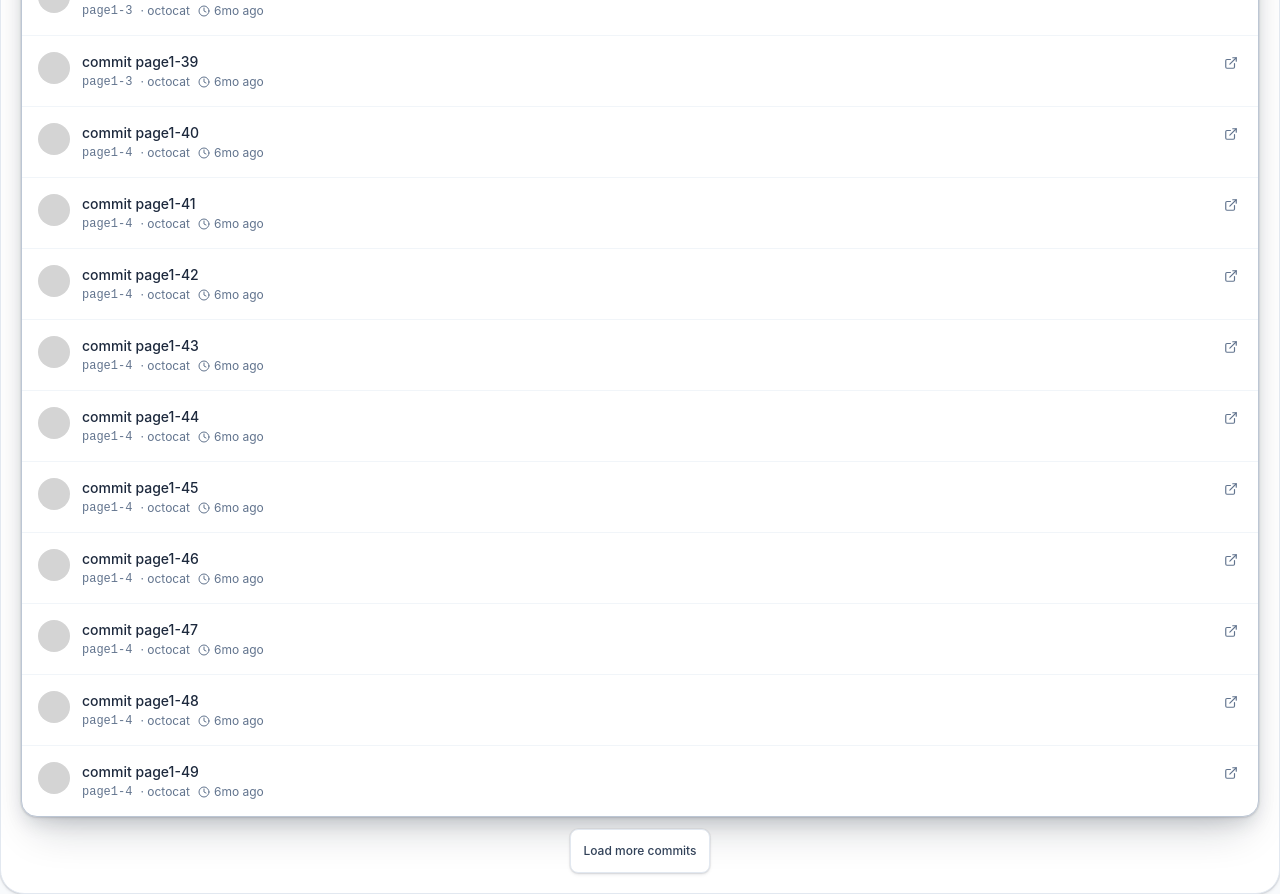
Test: CommitsTab — pagination › offers a retry (not silent skip-ahead) when loading the next page fails
The width and height of the screenshot is (1280, 894).
(page scrolled)
Click the button "Load more commits": (640, 851) [570,829,710,873]
(page scrolled)
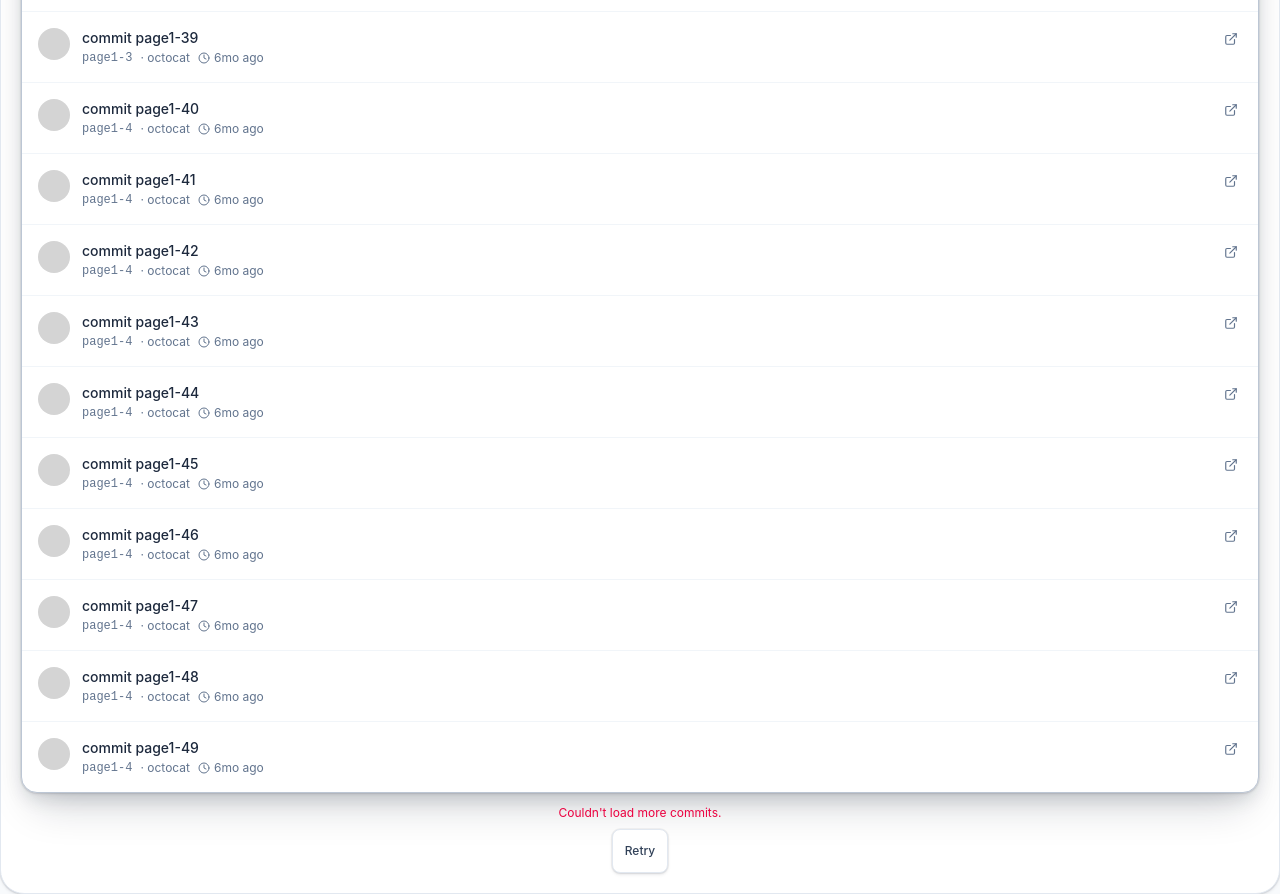
Check: the text "Couldn't load more commits." is shown, box [558,805,722,821]
Check: the button "Retry" is shown, box [612,829,668,873]
